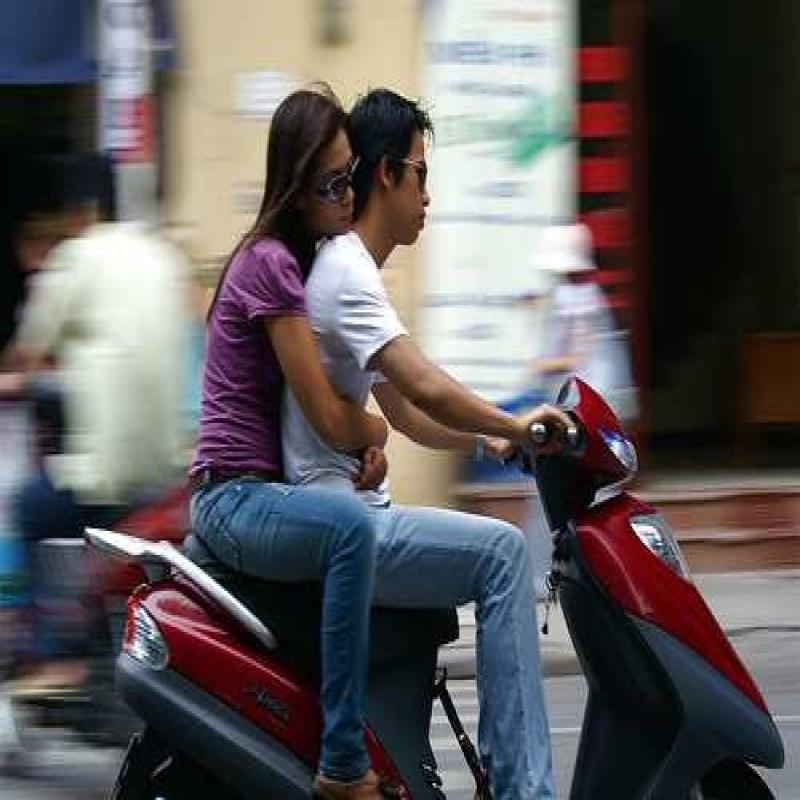bike: (93, 374, 774, 800)
